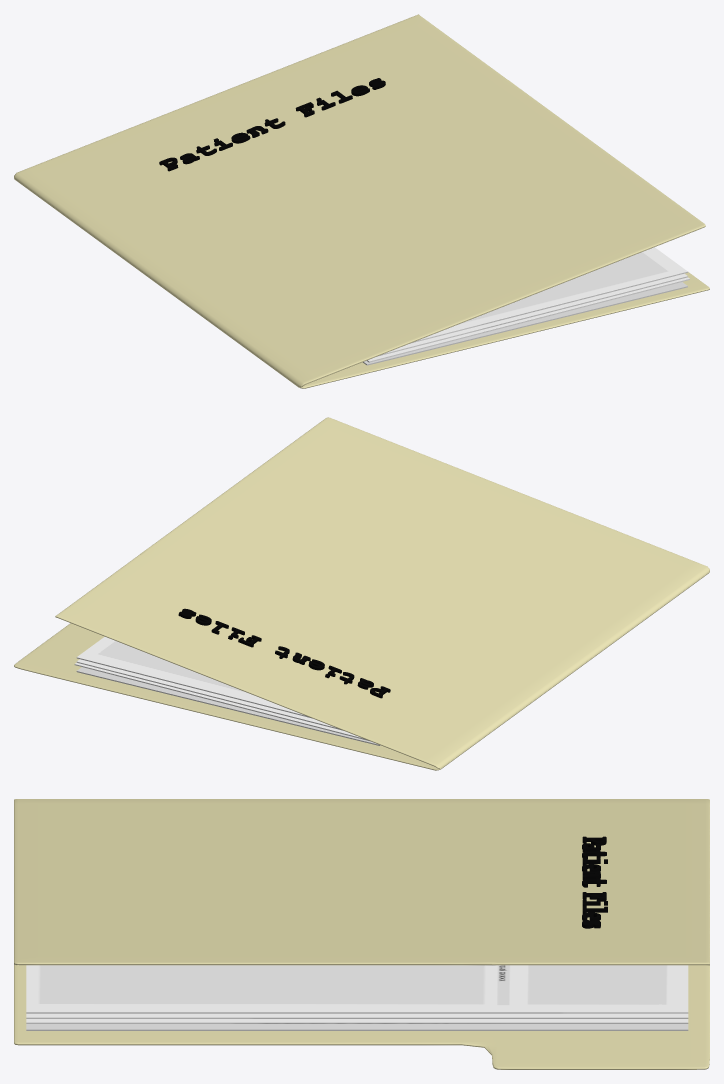
The model's file is Patient-records-file.fbx.
3 renders of one model, top to bottom at view 1: azimuth 30°, elevation 25°; view 2: azimuth 150°, elevation 25°; view 3: azimuth 270°, elevation 25°, orthographic. The views are drawn at different scales.
Parts seen in each view (by area): view 1: pCube20, Notebook_Paper4, pCube19, patient_file_text, Notebook_Paper1, Notebook_Paper3, Notebook_Paper2; view 2: pCube20, pCube19, Notebook_Paper4, patient_file_text, Notebook_Paper1, Notebook_Paper3, Notebook_Paper2; view 3: pCube20, Notebook_Paper4, pCube19, Notebook_Paper1, Notebook_Paper3, Notebook_Paper2, patient_file_text.
Boxes of the visible parts, box(x1,y1,x2,y2) form: pCube20: box(14, 14, 705, 387); Notebook_Paper4: box(410, 247, 687, 343); pCube19: box(14, 177, 709, 388); patient_file_text: box(159, 78, 385, 171); Notebook_Paper1: box(363, 282, 687, 365); Notebook_Paper3: box(377, 273, 687, 356); Notebook_Paper2: box(367, 277, 689, 362); pCube20: box(55, 417, 709, 768); pCube19: box(14, 571, 709, 770); Notebook_Paper4: box(76, 637, 311, 718); patient_file_text: box(178, 608, 390, 698); Notebook_Paper1: box(76, 667, 380, 745); Notebook_Paper3: box(76, 659, 342, 730); Notebook_Paper2: box(74, 662, 368, 740); pCube20: box(14, 799, 709, 965); Notebook_Paper4: box(26, 965, 688, 1013); pCube19: box(14, 964, 709, 1069); Notebook_Paper1: box(26, 1024, 688, 1030); Notebook_Paper3: box(26, 1013, 688, 1018); Notebook_Paper2: box(26, 1019, 688, 1023); patient_file_text: box(582, 836, 607, 928).
Bounding box in the file's own units: 2.84 × 0.3971 × 3.14.
Materials: 6 (3 with a texture image).
